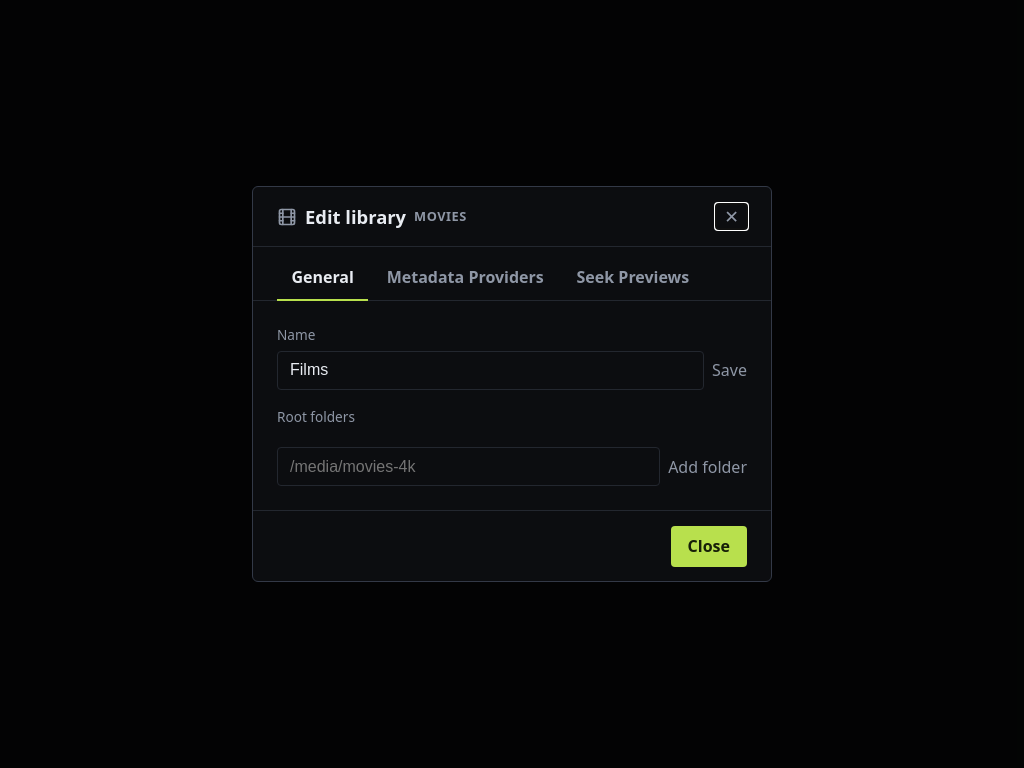
Test case: EditLibraryDialog — seek previews tab › shows generation as unavailable, not on, when the server cannot run it
Step 1. Click the tab with test id "edit-library-tab-seek-previews" → (633, 278), box [562,256,704,301]
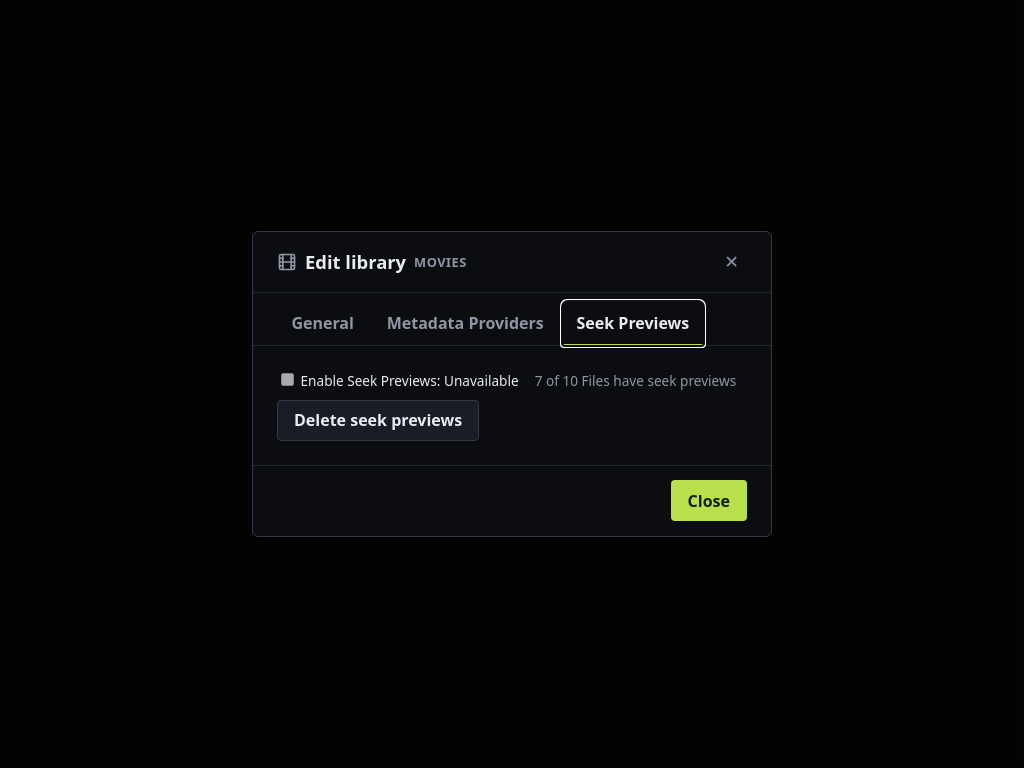
Expected: the checkbox with test id "seek-previews-toggle" is not checked, [281,373,294,386]
Expected: the checkbox with test id "seek-previews-toggle" is disabled, [281,373,294,386]
Expected: the element with test id "seek-previews" shows "Unavailable", [437,371,519,390]
